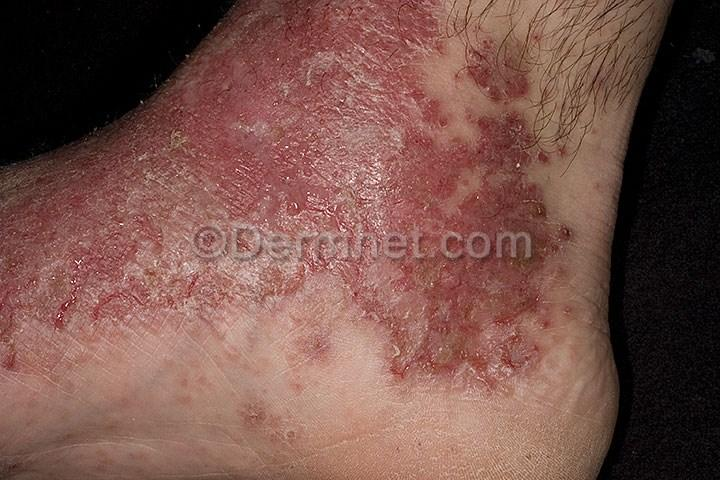Eczema: (239, 6, 550, 222), (195, 262, 582, 398), (0, 172, 185, 373), (135, 108, 233, 163)
